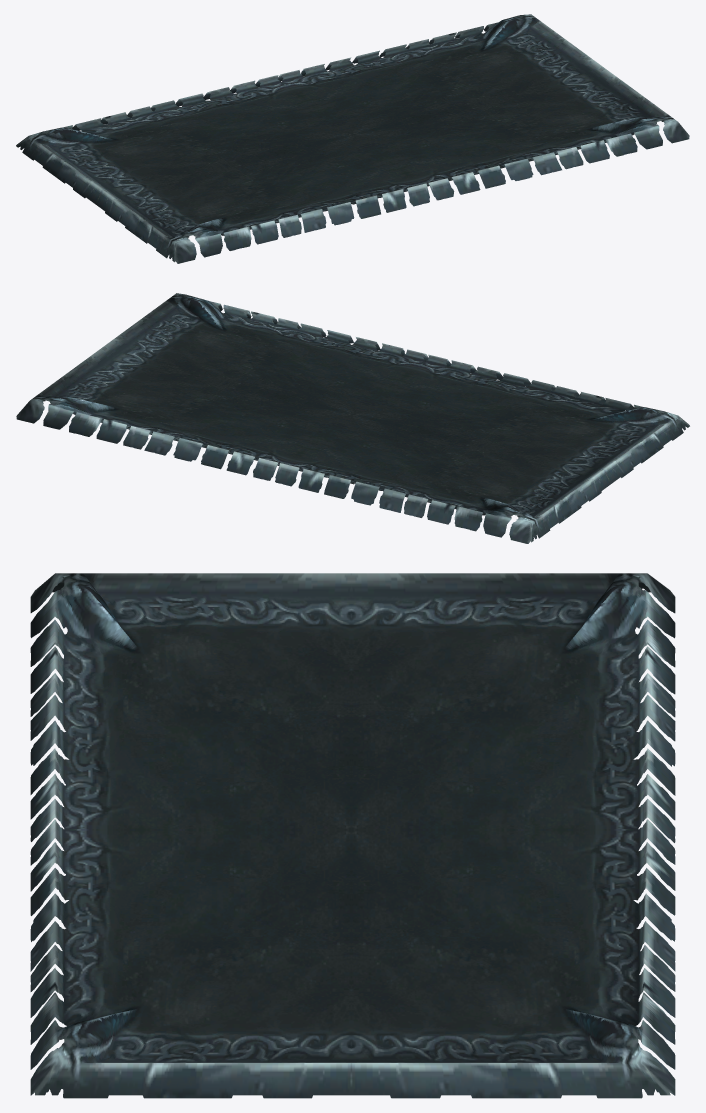
The model's file is Rug.fbx.
3 views of the same model, one above another, from view 1: azimuth 30°, elevation 25°; view 2: azimuth 150°, elevation 25°; view 3: azimuth 270°, elevation 25° (orthographic). The views are drawn at different scales.
Visible parts, largest first — view 1: icecrown_rug_long_02; view 2: icecrown_rug_long_02; view 3: icecrown_rug_long_02.
Boxes of the visible parts, x1,y1,x2,y2 form: icecrown_rug_long_02: (16, 14, 689, 263); icecrown_rug_long_02: (16, 293, 689, 543); icecrown_rug_long_02: (30, 573, 675, 1098).
Bounding box in the file's own units: 990 × 36.4 × 534.
